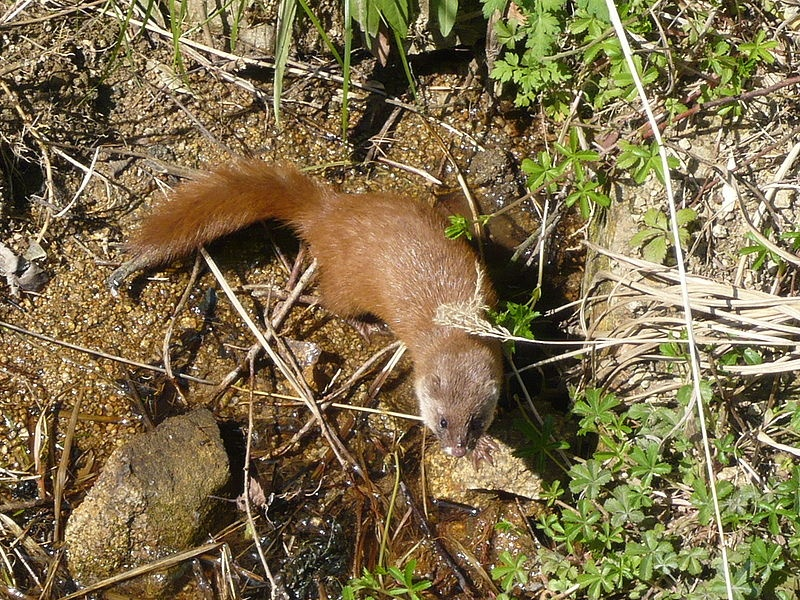minkish: (126, 147, 523, 462)
